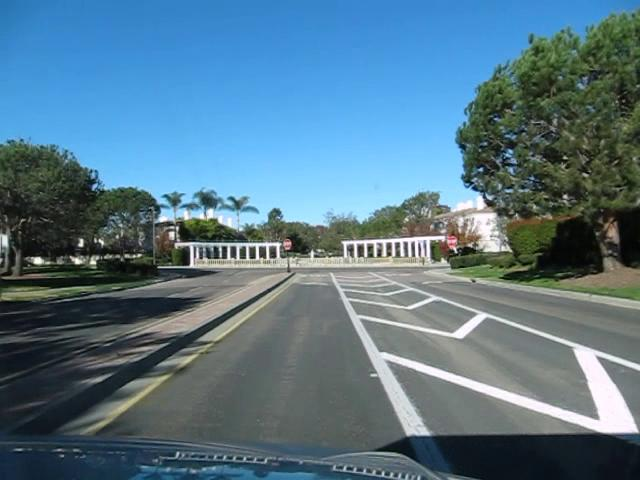stop: (446, 234, 457, 247)
